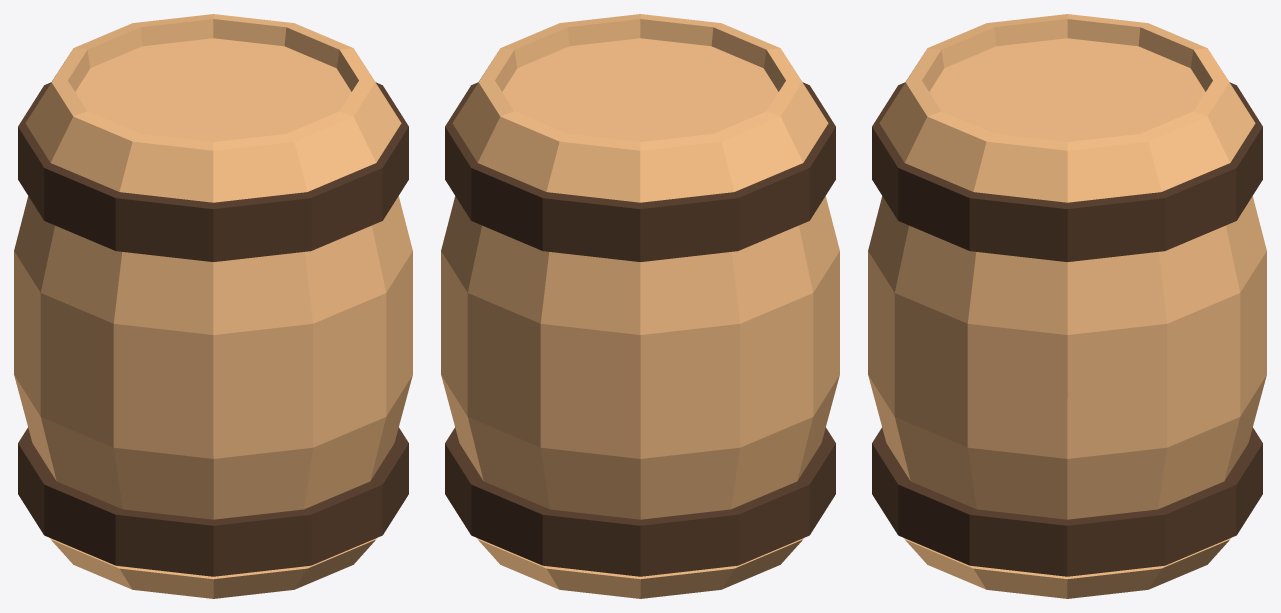
Rendered from barrel1.fbx.
3 views of the same model, side by side, from view 1: azimuth 30°, elevation 25°; view 2: azimuth 150°, elevation 25°; view 3: azimuth 270°, elevation 25° (orthographic).
Visible parts, largest first — view 1: Cylinder; view 2: Cylinder; view 3: Cylinder.
Part boxes in pixels (x1,y1,x2,y2): Cylinder: (14, 14, 412, 598); Cylinder: (441, 14, 839, 598); Cylinder: (868, 14, 1266, 598).
Bounding box in the file's own units: 399 × 496 × 399.
